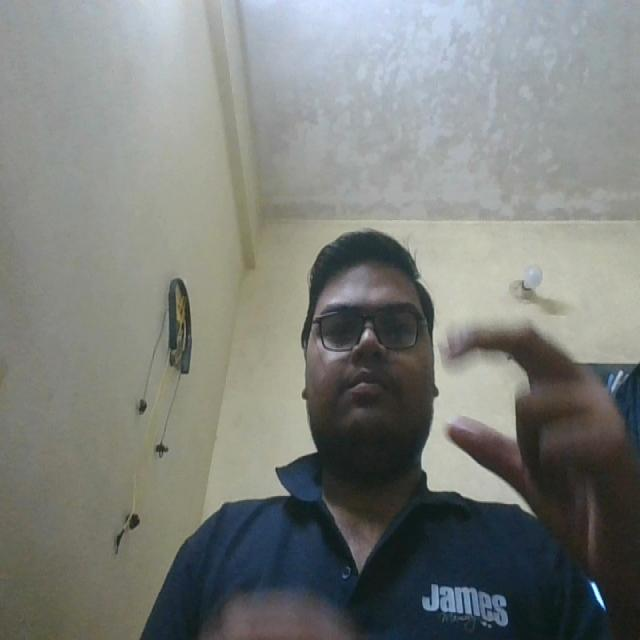No: (438, 304, 628, 532)
